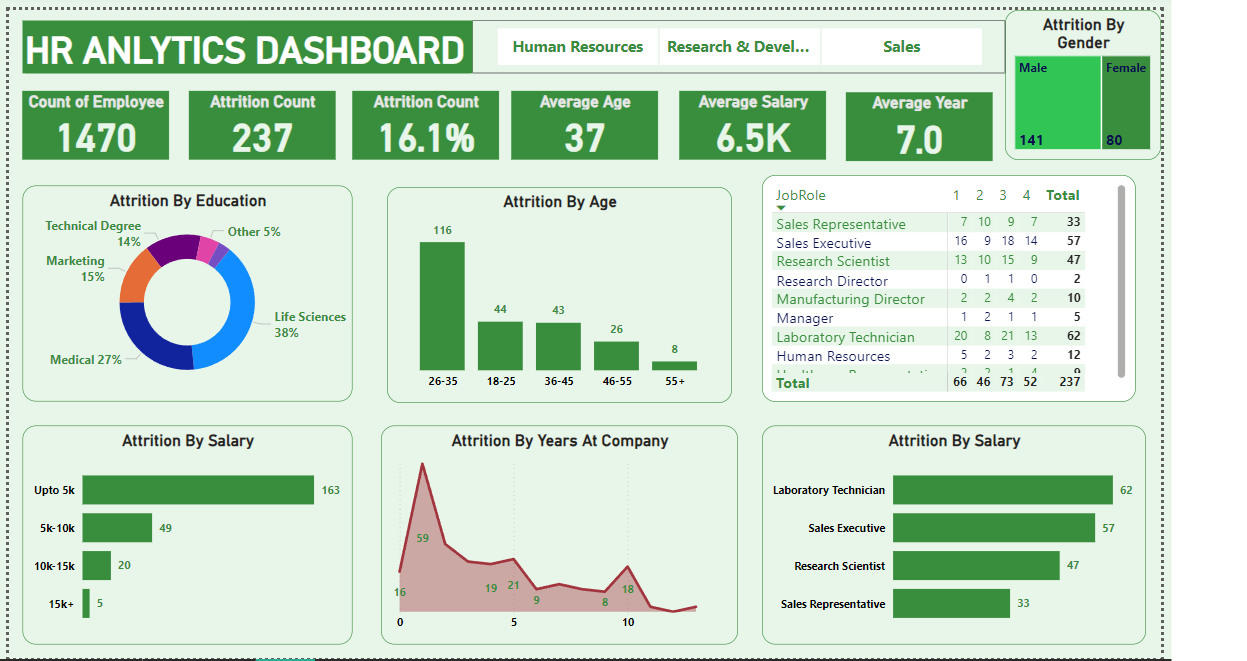

Layout of this report page (visuals, bound fields, positions):
{"tool":"powerbi","page":{"name":"Page 1","canvas":[1280,720],"ordinal":0},"visuals":[{"type":"card","title":"Count of Employee","fields":{"Values":["Count(HR_Analytics.EmpID)"]},"box":[15.7,90,162.9,75.7],"z":0},{"type":"card","title":"Attrition Count","fields":{"Values":["Sum(HR_Analytics.AttritionCount)"]},"box":[200,90,162.9,75.7],"z":1000},{"type":"card","title":"Attrition Count","fields":{"Values":["HR_Analytics.Attrition_Rate"]},"box":[381.4,90,162.9,75.7],"z":2000},{"type":"card","title":"Average Age","fields":{"Values":["Avg(HR_Analytics.Age)"]},"box":[558.6,90,162.9,75.7],"z":3000},{"type":"card","title":"Average Salary","fields":{"Values":["Avg(HR_Analytics.MonthlyIncome)"]},"box":[744.3,90,162.9,75.7],"z":4000},{"type":"card","title":"Average Year","fields":{"Values":["Avg(HR_Analytics.YearsAtCompany)"]},"box":[930,91.4,162.9,75.7],"z":5000},{"type":"donutChart","title":"Attrition By Education","fields":{"Y":["Sum(HR_Analytics.AttritionCount)"],"Category":["HR_Analytics.EducationField"]},"box":[15,195,366.7,240],"z":6000},{"type":"columnChart","title":"Attrition By Age","fields":{"Category":["HR_Analytics.AgeGroup"],"Y":["Sum(HR_Analytics.AttritionCount)"]},"box":[420,196.7,383.3,240],"z":7000},{"type":"pivotTable","fields":{"Rows":["HR_Analytics.JobRole"],"Columns":["HR_Analytics.JobSatisfaction"],"Values":["Sum(HR_Analytics.AttritionCount)"]},"box":[836.7,183.3,415,251.7],"z":8000},{"type":"clusteredBarChart","title":"Attrition By Salary","fields":{"Category":["HR_Analytics.SalarySlab"],"Y":["Sum(HR_Analytics.AttritionCount)"]},"box":[15,461.7,366.7,243.3],"z":9000},{"type":"clusteredBarChart","title":"Attrition By Salary","fields":{"Category":["HR_Analytics.JobRole"],"Y":["Sum(HR_Analytics.AttritionCount)"]},"box":[836.7,461.7,426.7,243.3],"z":10000},{"type":"stackedAreaChart","title":"Attrition By Years At Company","fields":{"Y":["Sum(HR_Analytics.AttritionCount)"],"Category":["HR_Analytics.YearsAtCompany"]},"box":[413.3,461.7,396.7,243.3],"z":11000},{"type":"treemap","title":"Attrition By Gender","fields":{"Group":["HR_Analytics.Gender"],"Values":["Sum(HR_Analytics.AttritionCount)"]},"box":[1106.7,0,173.3,166.7],"z":12000},{"type":"slicer","fields":{"Values":["HR_Analytics.Department"]},"box":[515,11.7,591.7,58.3],"z":13000},{"type":"textbox","title":"HR ANLYTICS DASHBOARD","box":[15,11.7,500,58.3],"z":13001}]}

Visuals, with their boxes on the page's 1280x720 design canvas (x1, y1, x2, y2). These are canvas units, not pixel positions in the 1247x661 screenshot, which may show the page scaled, cropped or inside an application window:
"Count of Employee" card: l=16, t=90, r=179, b=166
"Attrition Count" card: l=200, t=90, r=363, b=166
"Attrition Count" card: l=381, t=90, r=544, b=166
"Average Age" card: l=559, t=90, r=722, b=166
"Average Salary" card: l=744, t=90, r=907, b=166
"Average Year" card: l=930, t=91, r=1093, b=167
"Attrition By Education" donutChart: l=15, t=195, r=382, b=435
"Attrition By Age" columnChart: l=420, t=197, r=803, b=437
pivotTable - HR_Analytics.JobRole x HR_Analytics.JobSatisfaction: l=837, t=183, r=1252, b=435
"Attrition By Salary" clusteredBarChart: l=15, t=462, r=382, b=705
"Attrition By Salary" clusteredBarChart: l=837, t=462, r=1263, b=705
"Attrition By Years At Company" stackedAreaChart: l=413, t=462, r=810, b=705
"Attrition By Gender" treemap: l=1107, t=0, r=1280, b=167
slicer - HR_Analytics.Department: l=515, t=12, r=1107, b=70
"HR ANLYTICS DASHBOARD" textbox: l=15, t=12, r=515, b=70
